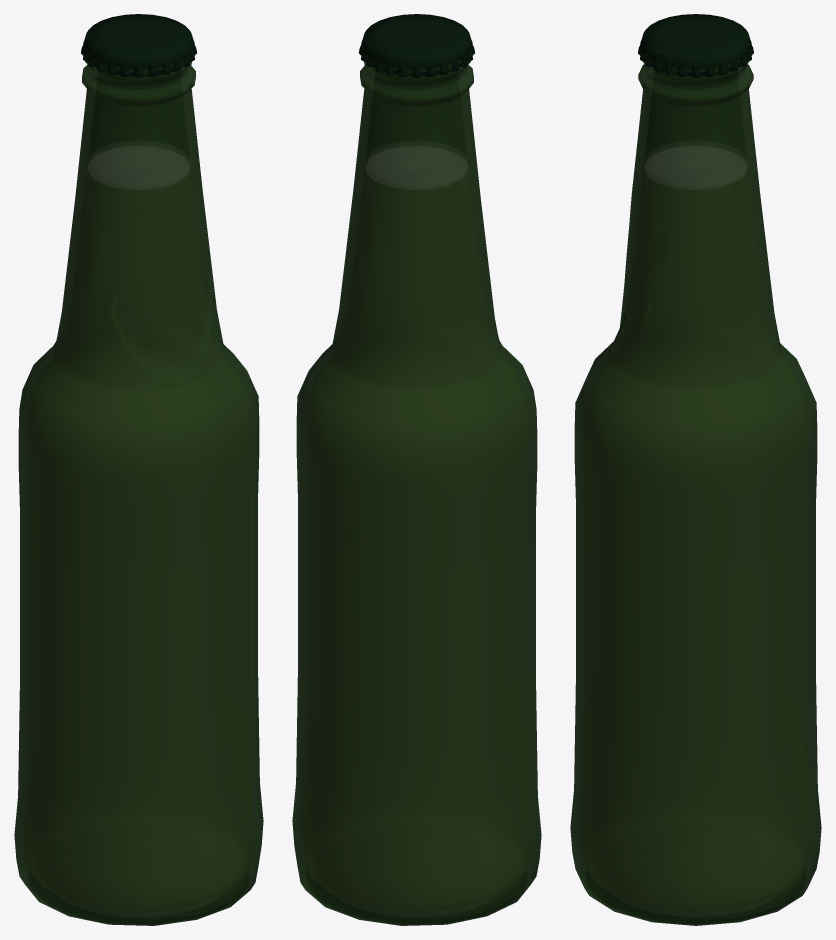
The model's file is GARRAFA.fbx.
The picture shows the model from 3 angles, left to right: view 1: azimuth 30°, elevation 25°; view 2: azimuth 150°, elevation 25°; view 3: azimuth 270°, elevation 25°; orthographic projection.
Visible parts, largest first — view 1: GARRAFA; view 2: GARRAFA; view 3: GARRAFA.
Part boxes in pixels (x1,y1,x2,y2): GARRAFA: (14,14,263,925); GARRAFA: (292,14,541,925); GARRAFA: (570,14,821,925).
Size of the model in its own units: 12.73 by 47.38 by 12.73.
